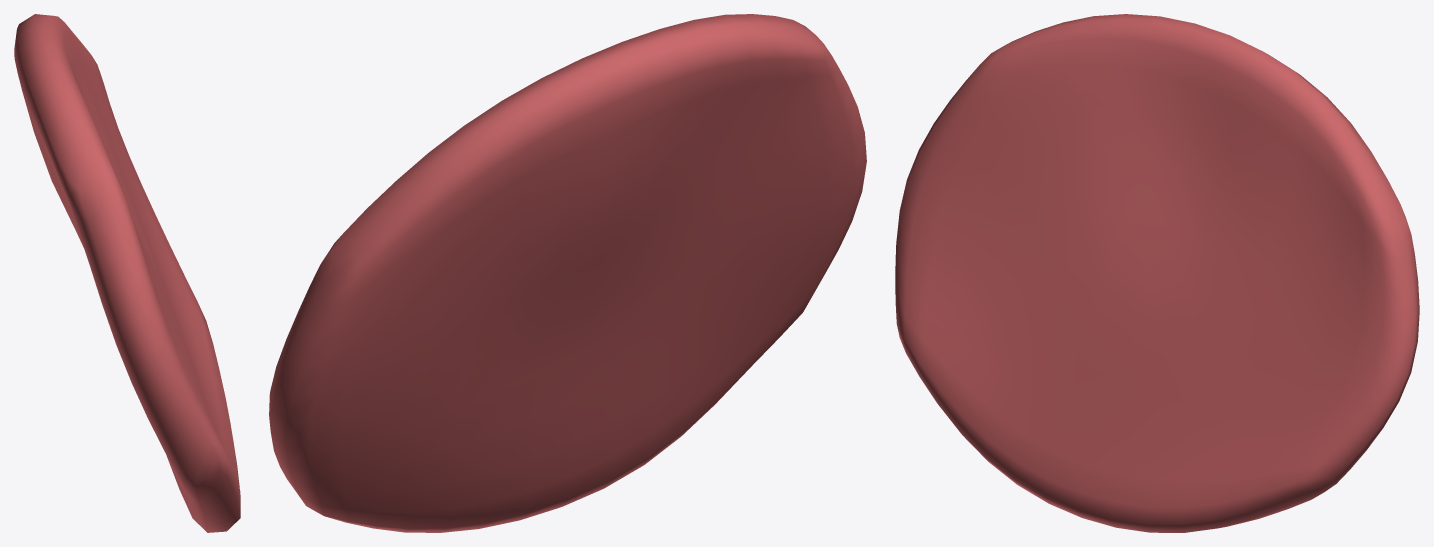
3 renders of one model, left to right at view 1: azimuth 30°, elevation 25°; view 2: azimuth 150°, elevation 25°; view 3: azimuth 270°, elevation 25°, orthographic. The views are drawn at different scales.
Parts seen in each view (by area): view 1: 左侧半膜肌囊; view 2: 左侧半膜肌囊; view 3: 左侧半膜肌囊.
Part boxes in pixels (bbox=[...]): 左侧半膜肌囊: bbox=[14, 14, 240, 532]; 左侧半膜肌囊: bbox=[269, 14, 866, 532]; 左侧半膜肌囊: bbox=[895, 14, 1419, 532].
Bounding box in the file's own units: 0.0184 × 0.0281 × 0.0304.
